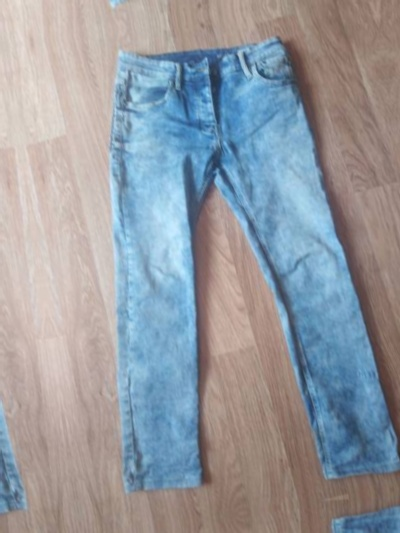Pants: (42, 15, 400, 517), (0, 74, 44, 533), (119, 502, 400, 533), (0, 0, 337, 19)
